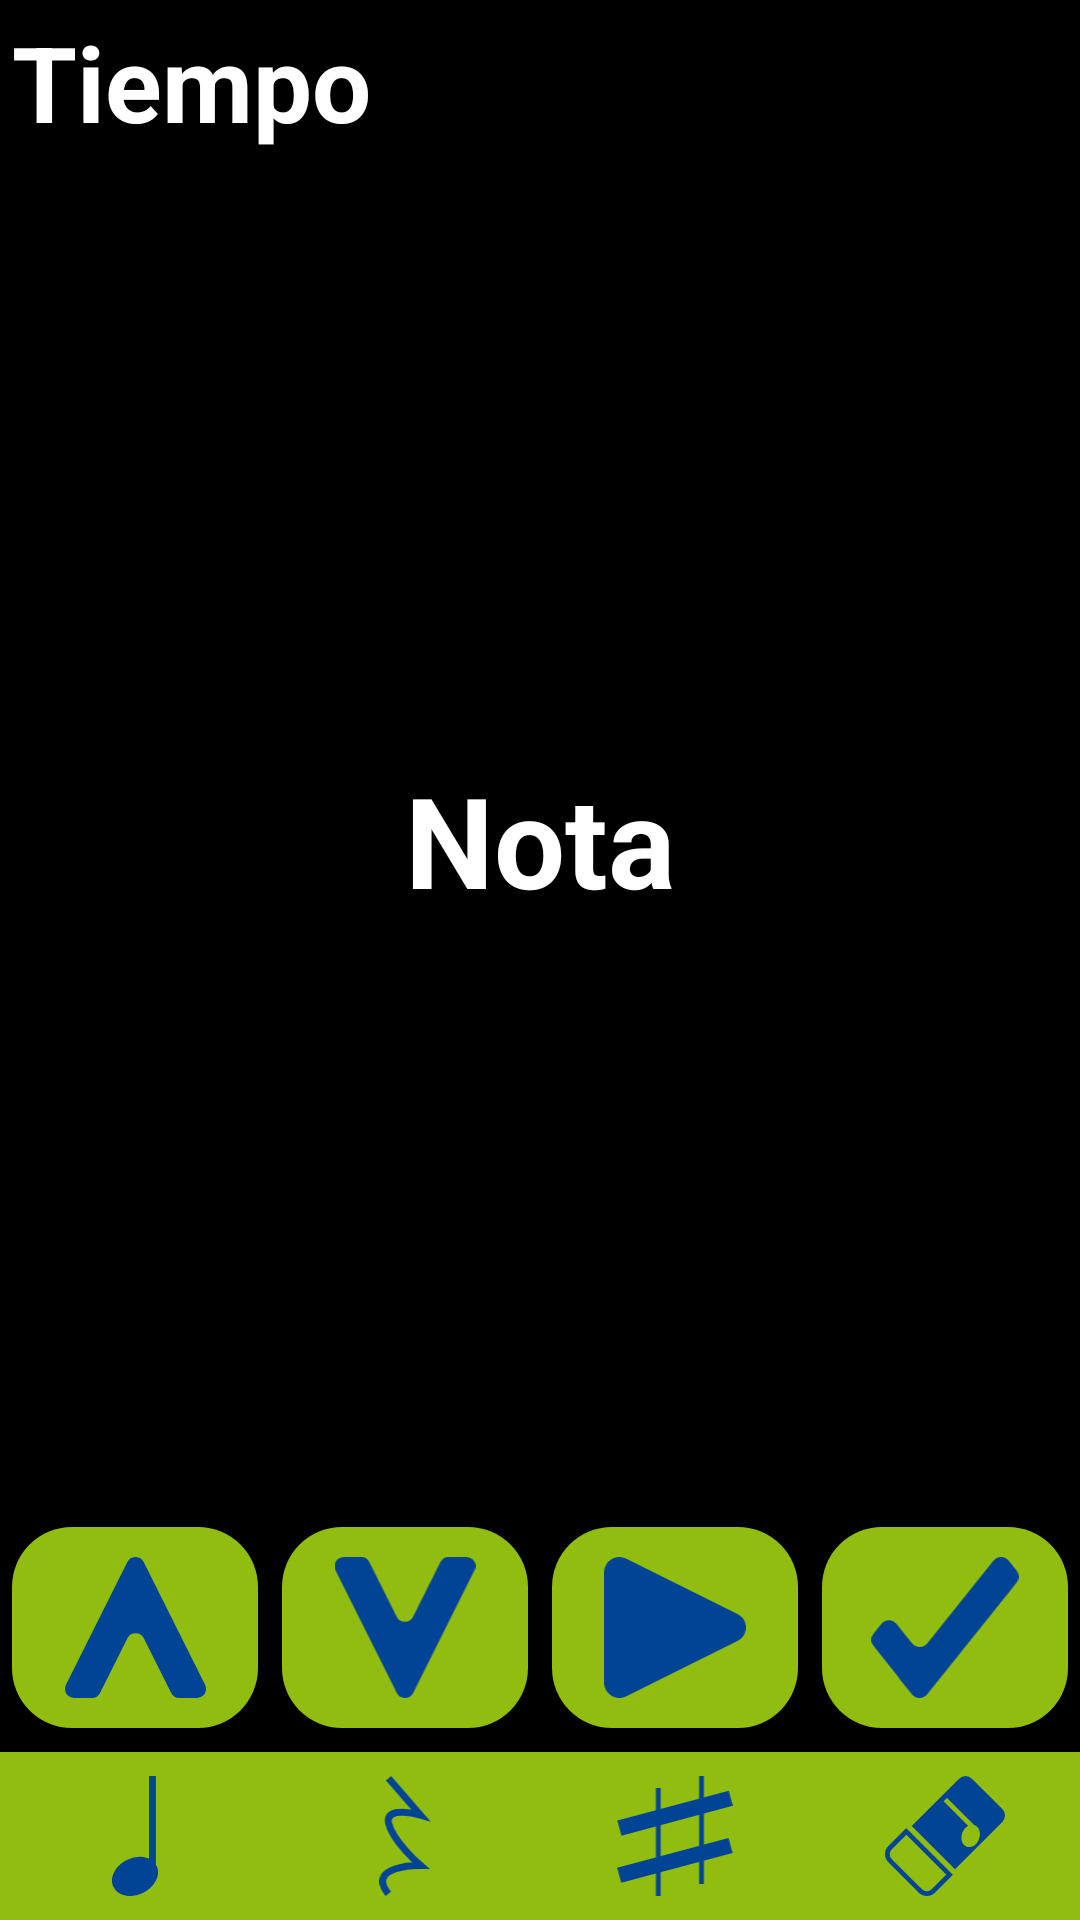

Named icons in this screenshot (1080x1920) and their bounding boxes, (x1, y1, x2, y2):
Repetir nota: (552, 1527, 798, 1728)
responder: (822, 1527, 1068, 1728)
Subir altura: (12, 1527, 258, 1728)
